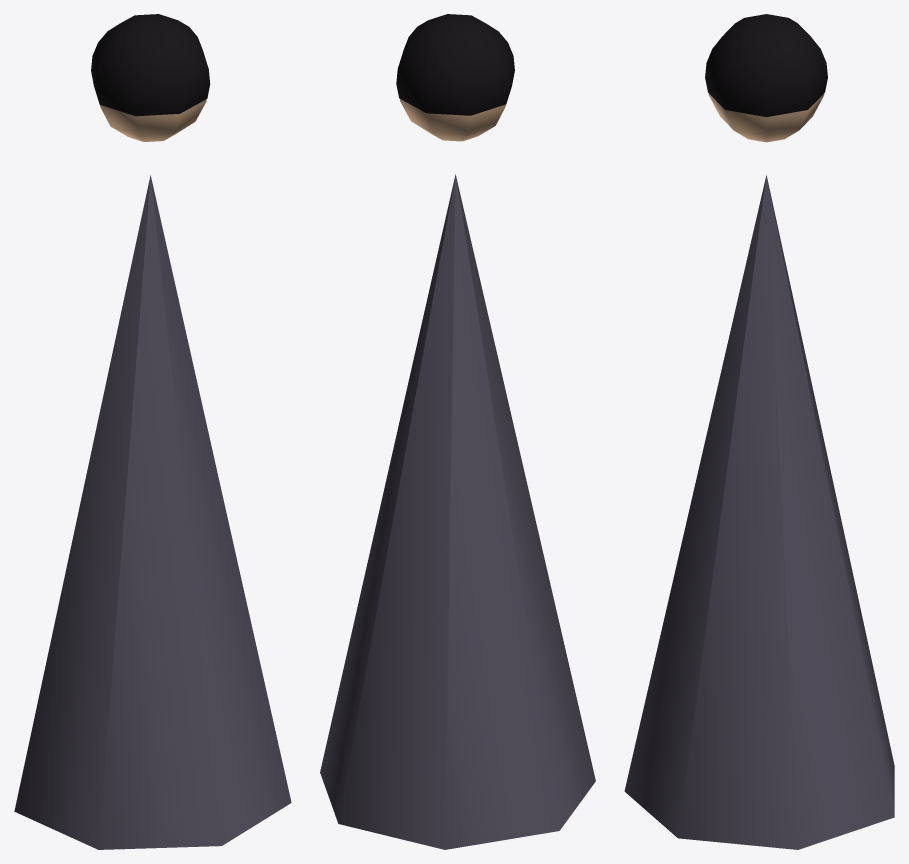
File: villager_3.glb
The picture shows the model from 3 angles, left to right: view 1: azimuth 30°, elevation 25°; view 2: azimuth 150°, elevation 25°; view 3: azimuth 270°, elevation 25°; orthographic projection.
Bounding box in the file's own units: 0.468 × 1.44 × 0.4562.
